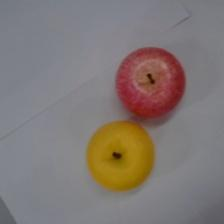red: (115, 45, 186, 119)
yellow: (85, 119, 155, 192)
